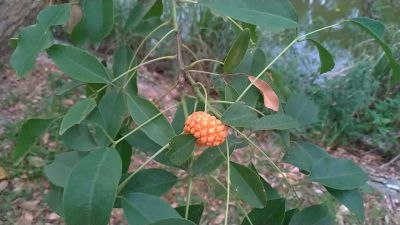eggs: (179, 108, 228, 145)
